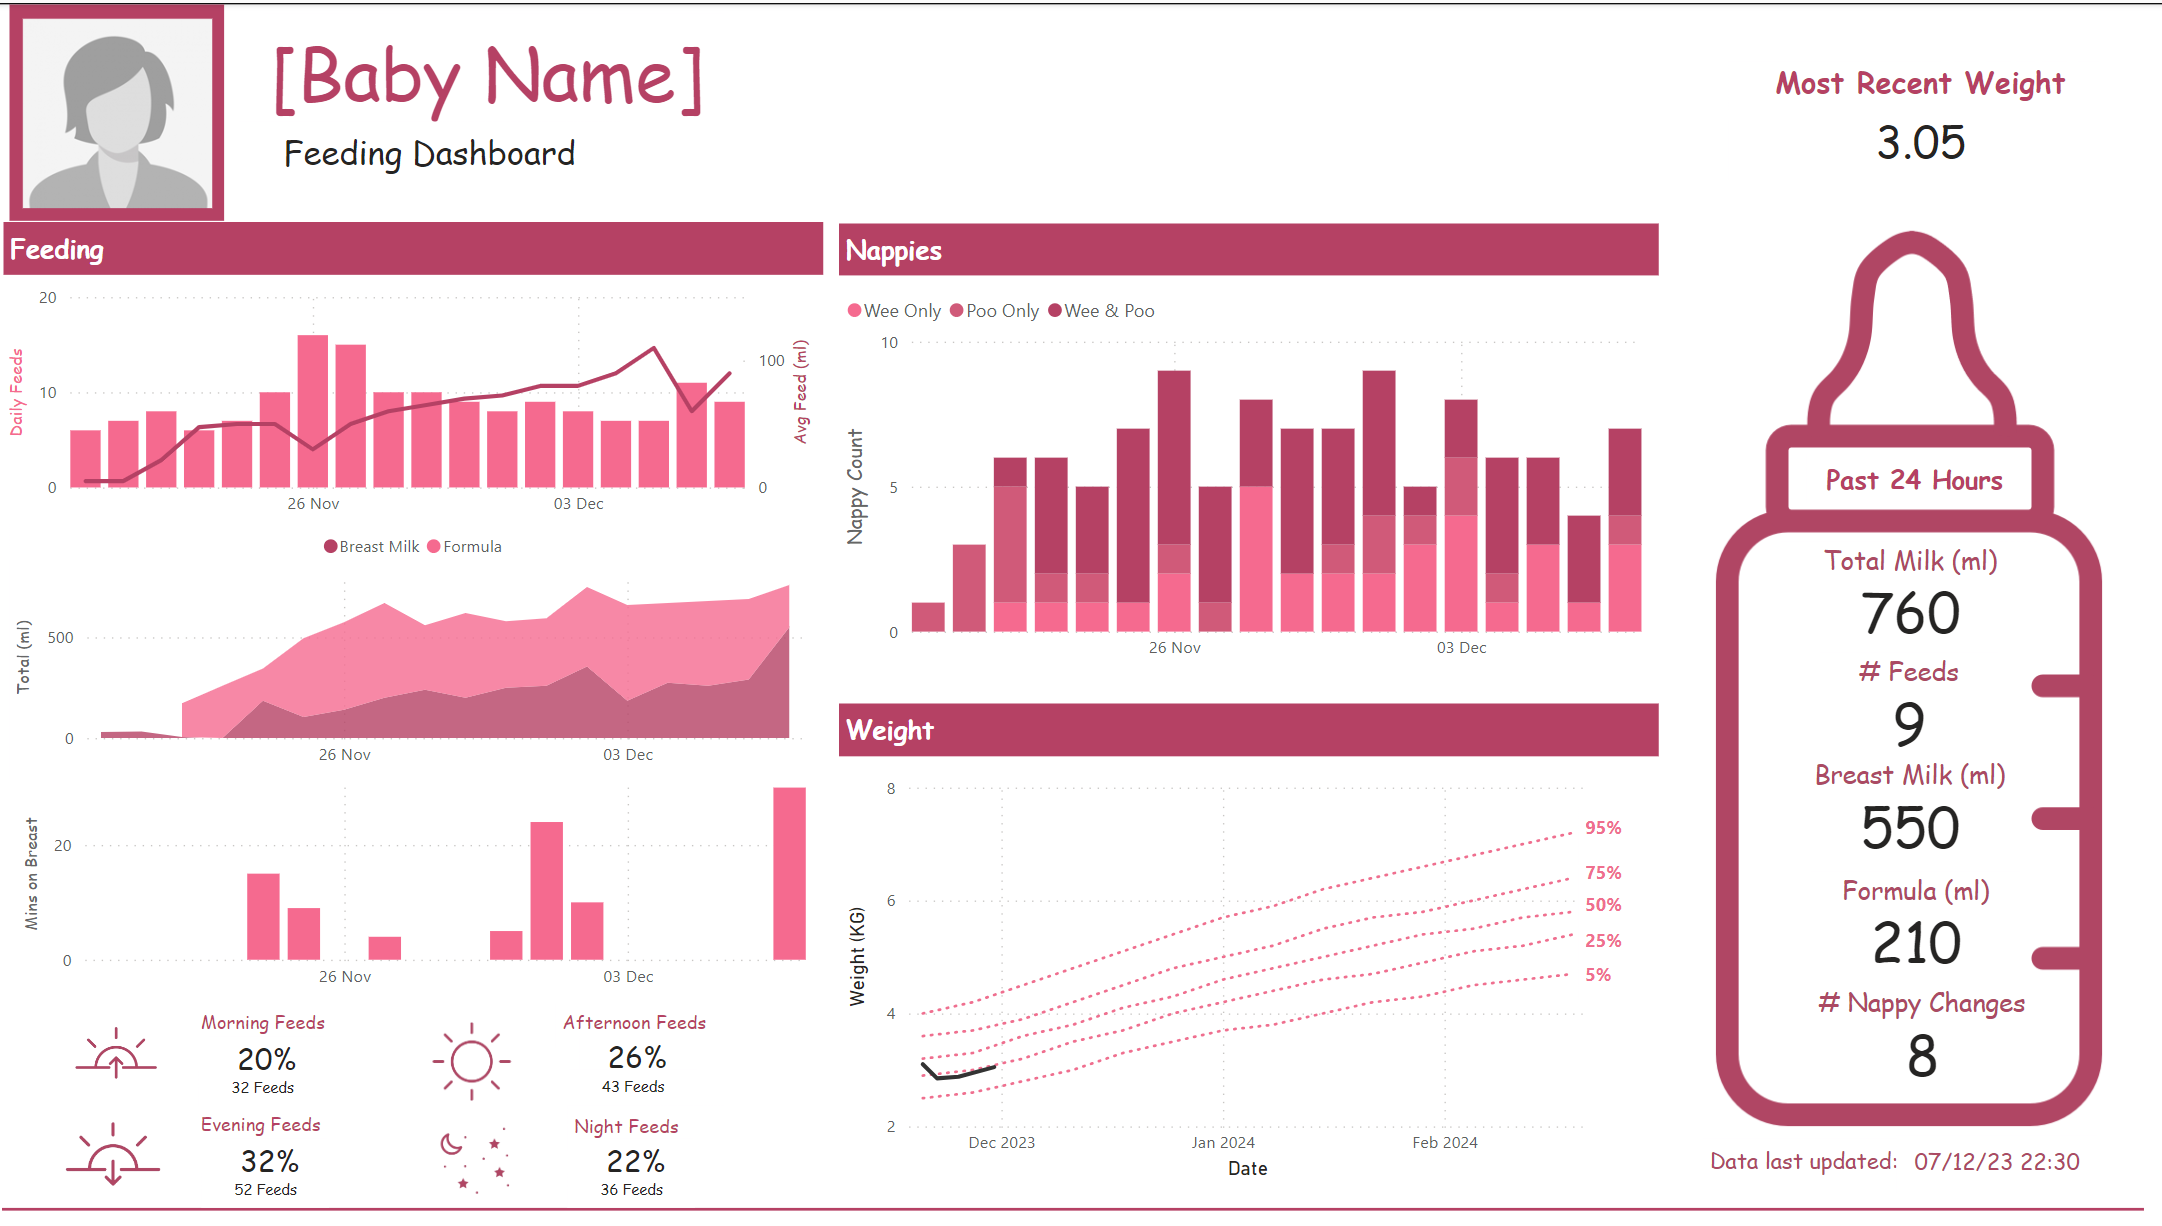

Layout of this report page (visuals, bound fields, positions):
{"tool":"powerbi","page":{"name":"Feeding","canvas":[1600,900],"ordinal":0},"visuals":[{"type":"shape","box":[11.7,0.8,157.1,158.3],"z":0},{"type":"textbox","box":[197.6,7.7,337.1,94.4],"z":1000},{"type":"textbox","box":[180.1,86.6,279,48.3],"z":2000},{"type":"image","box":[1223.1,160.8,358.6,665.7],"z":3000},{"type":"shape","box":[6.7,866.7,1567.8,33.3],"z":4000},{"type":"textbox","box":[7.1,159.8,600,38.5],"z":5000},{"type":"textbox","box":[619.3,161.1,600,37.8],"z":6000},{"type":"textbox","box":[619.3,512.2,600,38.9],"z":7000},{"type":"card","title":"Most Recent Weight","fields":{"Values":["Weight.most_recent_weight_kaia"]},"box":[1270.6,43.3,280.8,86.6],"z":8000},{"type":"lineStackedColumnComboChart","fields":{"Category":["Food.Date"],"Y":["Food.TotalFeedSize"],"Y2":["Food.TotalFeedSize"]},"box":[7,201.1,600,183.3],"z":9000},{"type":"stackedAreaChart","fields":{"Category":["Food.Date"],"Y":["Food.Total Breast Milk","Food.Formula ml"]},"box":[12.6,377.8,594.4,190],"z":10000},{"type":"columnChart","fields":{"Category":["Food.Date"],"Y":["Food.Total Mins on Breast"]},"box":[17,560,590,170],"z":11000},{"type":"columnChart","fields":{"Y":["Nappies.WeeOnly","Nappies.PooOnly","Nappies.WeeAndPoo"],"Category":["Nappies.Date"]},"box":[619.3,204.4,600,285.6],"z":12000},{"type":"image","box":[44.2,801.1,86.9,80],"z":14000},{"type":"image","box":[50.5,732.3,85.6,70],"z":15000},{"type":"image","box":[308.9,730.7,81.1,80],"z":16000},{"type":"image","box":[314.4,806.3,75.6,76.7],"z":17000},{"type":"textbox","box":[146.7,730.7,114.4,33.3],"z":18000},{"type":"textbox","box":[146.7,806.3,114.4,33.3],"z":19000},{"type":"textbox","box":[412.2,730.7,152.2,33.3],"z":20000},{"type":"textbox","box":[420.6,806.6,114.4,33.3],"z":21000},{"type":"card","fields":{"Values":["Food.NightFeedPct"]},"box":[428.2,830.9,83.8,34.4],"z":22000},{"type":"card","fields":{"Values":["Food.NightFeedCount"]},"box":[420.7,855.9,93.1,25],"z":23000},{"type":"card","fields":{"Values":["Food.AfternoonFeedPct"]},"box":[429.4,755.5,83.8,34.4],"z":24000},{"type":"card","fields":{"Values":["Food.AfternoonFeedCount"]},"box":[421.9,780.5,93.1,25],"z":25000},{"type":"card","fields":{"Values":["Food.MorningFeedPct"]},"box":[158.2,756.7,83.8,34.4],"z":26000},{"type":"card","fields":{"Values":["Food.MorningFeedCount"]},"box":[150.7,781.7,93.1,25],"z":27000},{"type":"card","fields":{"Values":["Food.EveningFeedPct"]},"box":[159.9,830.9,83.8,34.4],"z":28000},{"type":"card","fields":{"Values":["Food.EveningFeedCount"]},"box":[152.4,855.9,93.1,25],"z":29000},{"type":"textbox","box":[1327.4,329.5,158.3,36.7],"z":30000},{"type":"lineChart","fields":{"Category":["Weight.Date"],"Y":["Weight.P5","Weight.P25","Weight.P50","Weight.P75","Weight.P95","Weight.Baby"]},"box":[619,560,567,305],"z":31000},{"type":"textbox","box":[1160,696,38,33],"z":32000},{"type":"textbox","box":[1160.5,670.8,50.5,32.9],"z":33000},{"type":"textbox","box":[1160.5,644.5,50.5,34],"z":34000},{"type":"textbox","box":[1160.5,621.4,50.5,30.7],"z":35000},{"type":"textbox","box":[1160.5,588.5,37.3,38.4],"z":36000},{"type":"card","title":"Total Milk (ml)","fields":{"Values":["Food.TotalFeedSize"]},"box":[1308.1,393.7,188.9,75.6],"z":37000},{"type":"card","title":"# Feeds","fields":{"Values":["Food.DateTime"]},"box":[1337,475.9,130,75.6],"z":38000},{"type":"card","title":"Breast Milk (ml)","fields":{"Values":["Food.Total Breast Milk"]},"box":[1325.9,551.5,153.3,75.6],"z":39000},{"type":"card","title":"Formula (ml)","fields":{"Values":["Food.Formula ml"]},"box":[1330.4,635.9,153.3,75.6],"z":40000},{"type":"card","title":"# Nappy Changes","fields":{"Values":["Nappies.Time"]},"box":[1325.9,718.1,171.1,75.6],"z":41000},{"type":"textbox","box":[1251.1,831.1,160,37.8],"z":42000},{"type":"card","fields":{"Values":["Food.FoodMaxDateTime"]},"box":[1393.3,828.9,146.7,42.2],"z":43000},{"type":"image","box":[16.5,5.5,149.3,150.4],"z":44000}]}

Visuals, with their boxes in screenshot pixels (x1, y1, x2, y2), scaled from the page's 1600x900 canvas onto the 2162x1226 screenshot:
shape: 16 1 228 217
textbox: 267 10 723 139
textbox: 243 118 620 184
image: 1653 219 2137 1126
shape: 9 1181 2128 1225
textbox: 10 218 820 270
textbox: 837 219 1648 271
textbox: 837 698 1648 751
"Most Recent Weight" card: 1717 59 2096 177
lineStackedColumnComboChart - Food.Date x Food.TotalFeedSize: 9 274 820 524
stackedAreaChart - Food.Date x Food.Total Breast Milk: 17 515 820 773
columnChart - Food.Date x Food.Total Mins on Breast: 23 763 820 994
columnChart - Nappies.WeeOnly x Nappies.PooOnly: 837 278 1648 667
image: 60 1091 177 1200
image: 68 998 184 1093
image: 417 995 527 1104
image: 425 1098 527 1203
textbox: 198 995 353 1041
textbox: 198 1098 353 1144
textbox: 557 995 763 1041
textbox: 568 1099 723 1144
card - Food.NightFeedPct: 579 1132 692 1179
card - Food.NightFeedCount: 568 1166 694 1200
card - Food.AfternoonFeedPct: 580 1029 693 1076
card - Food.AfternoonFeedCount: 570 1063 696 1097
card - Food.MorningFeedPct: 214 1031 327 1078
card - Food.MorningFeedCount: 204 1065 329 1099
card - Food.EveningFeedPct: 216 1132 329 1179
card - Food.EveningFeedCount: 206 1166 332 1200
textbox: 1794 449 2008 499
lineChart - Weight.Date x Weight.P5: 836 763 1603 1178
textbox: 1567 948 1619 993
textbox: 1568 914 1636 959
textbox: 1568 878 1636 924
textbox: 1568 846 1636 888
textbox: 1568 802 1619 854
"Total Milk (ml)" card: 1768 536 2023 639
"# Feeds" card: 1807 648 1982 751
"Breast Milk (ml)" card: 1792 751 1999 854
"Formula (ml)" card: 1798 866 2005 969
"# Nappy Changes" card: 1792 978 2023 1081
textbox: 1691 1132 1907 1184
card - Food.FoodMaxDateTime: 1883 1129 2081 1187
image: 22 7 224 212
